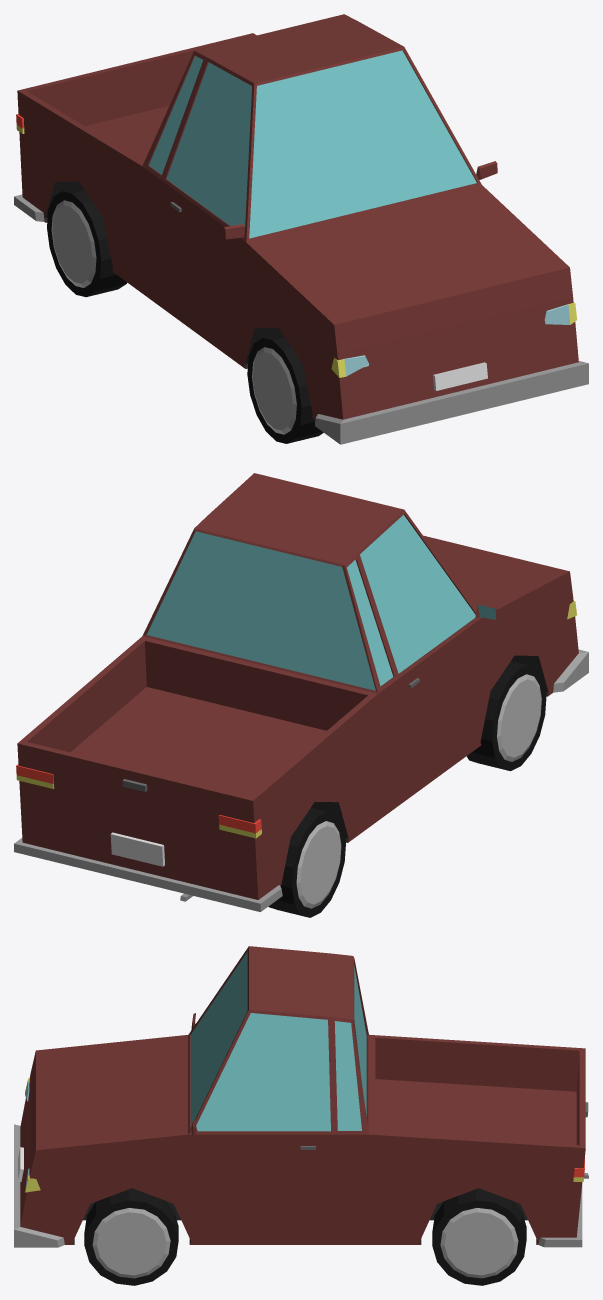
File: lp_car2.fbx
The picture shows the model from 3 angles, top to bottom: view 1: azimuth 30°, elevation 25°; view 2: azimuth 150°, elevation 25°; view 3: azimuth 270°, elevation 25°; orthographic projection. The views are drawn at different scales.
Parts seen in each view (by area): view 1: Car, wheel_BR, wheel_FR; view 2: Car, wheel_FR, wheel_BR; view 3: Car, wheel_FL, wheel_BL.
Boxes of the visible parts, x1,y1,x2,y2 form: Car: (14, 14, 588, 444); wheel_BR: (47, 186, 127, 297); wheel_FR: (247, 333, 323, 443); Car: (14, 473, 588, 911); wheel_FR: (466, 661, 546, 771); wheel_BR: (268, 807, 345, 917); Car: (14, 946, 588, 1247); wheel_FL: (84, 1188, 178, 1285); wheel_BL: (432, 1188, 526, 1285).
Size of the model in its own units: 231 by 240 by 487.
